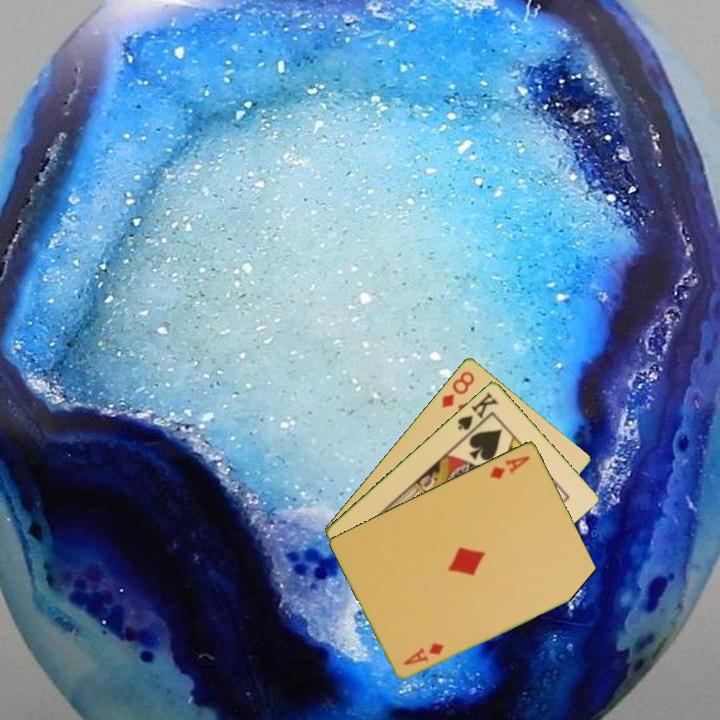8d: (438, 367, 477, 410)
Ad: (486, 452, 533, 482), (400, 639, 447, 668)
Ks: (454, 388, 501, 438)
